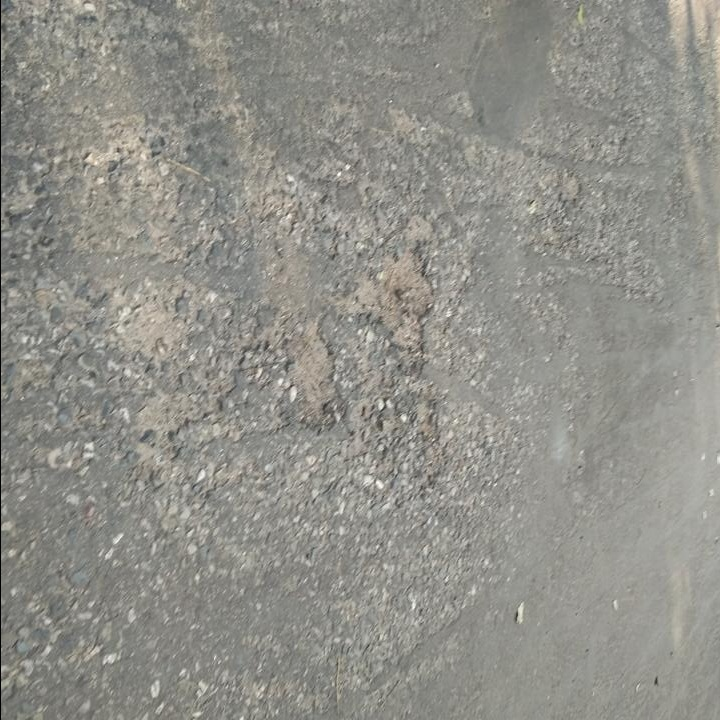pothole: (346, 247, 436, 351), (290, 328, 344, 426)
